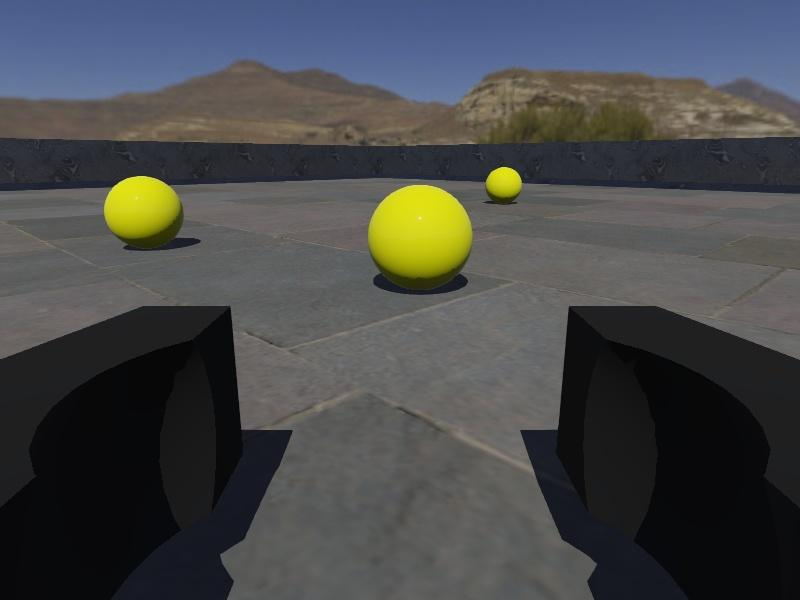yellow ball: (368, 183, 473, 293), (104, 176, 182, 250), (485, 165, 523, 205)
